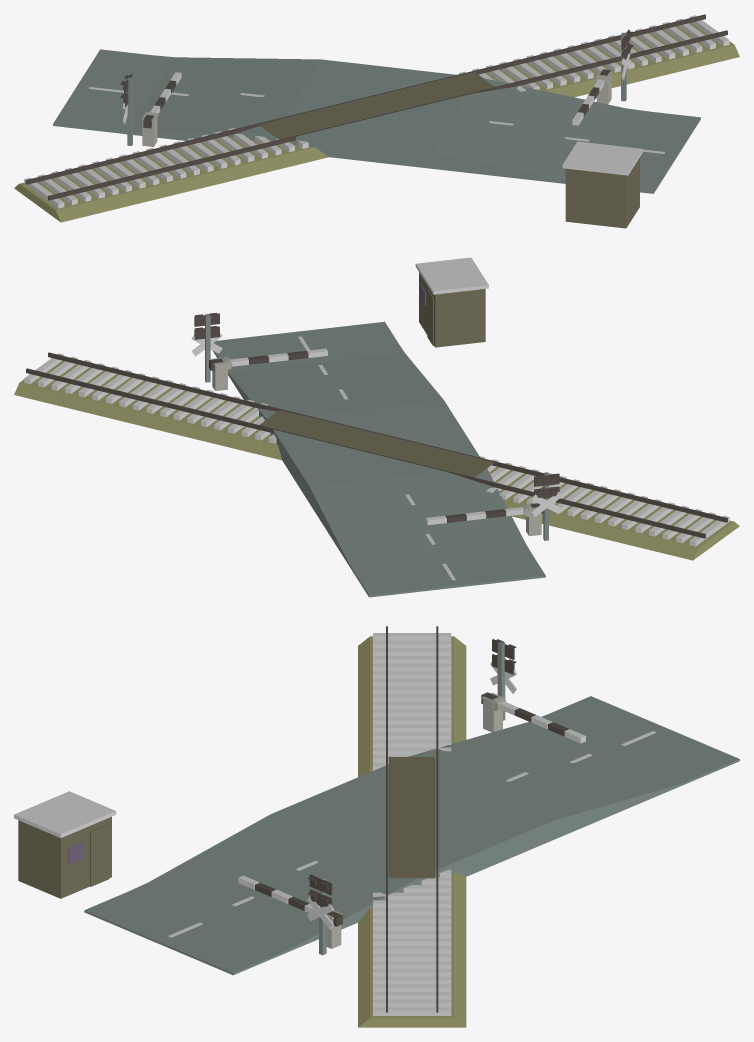
File: SM_PasoNivel_45_v1_FocosDobles_LOD0.fbx
3 renders of one model, top to bottom at view 1: azimuth 30°, elevation 25°; view 2: azimuth 150°, elevation 25°; view 3: azimuth 270°, elevation 25°, orthographic. The views are drawn at different scales.
Visible parts, largest first — view 1: SM_paso_nivel_kit_v11_LOD0, Barrera_1, Barrera_2; view 2: SM_paso_nivel_kit_v11_LOD0, Barrera_1, Barrera_2; view 3: SM_paso_nivel_kit_v11_LOD0, Barrera_2, Barrera_1.
Boxes of the visible parts, x1,y1,x2,y2 form: SM_paso_nivel_kit_v11_LOD0: (14, 14, 739, 228); Barrera_1: (572, 69, 610, 125); Barrera_2: (143, 72, 181, 128); SM_paso_nivel_kit_v11_LOD0: (14, 257, 739, 597); Barrera_1: (209, 348, 327, 370); Barrera_2: (426, 503, 543, 524); SM_paso_nivel_kit_v11_LOD0: (14, 626, 739, 1027); Barrera_2: (481, 692, 585, 743); Barrera_1: (238, 875, 342, 926).
Size of the model in its own units: 30 by 2.8 by 24.11.
